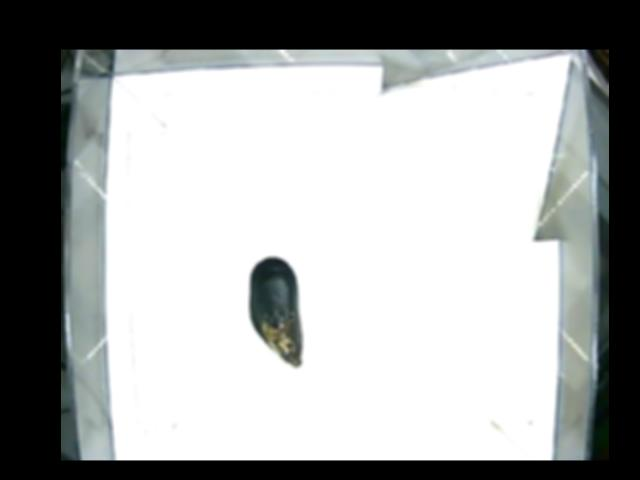Shell: (248, 256, 308, 367)
